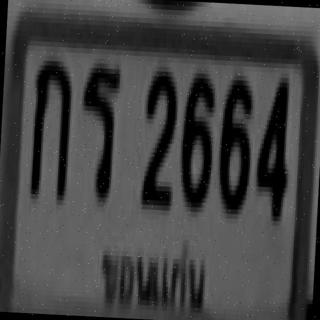A01: (22, 28, 82, 224)
A35: (76, 45, 123, 223)
N02: (135, 50, 180, 232)
N04: (256, 60, 293, 239)
N06: (175, 54, 220, 233), (214, 56, 254, 228)
P18: (82, 220, 212, 320)
